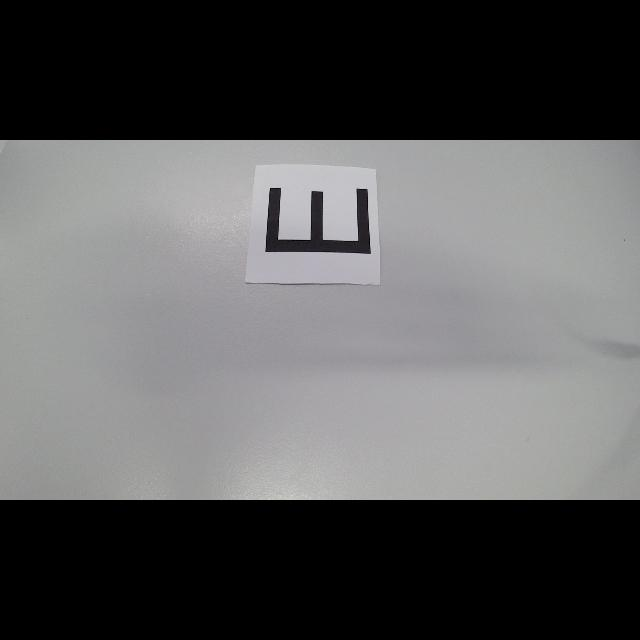FAKE: (266, 188, 372, 255)
